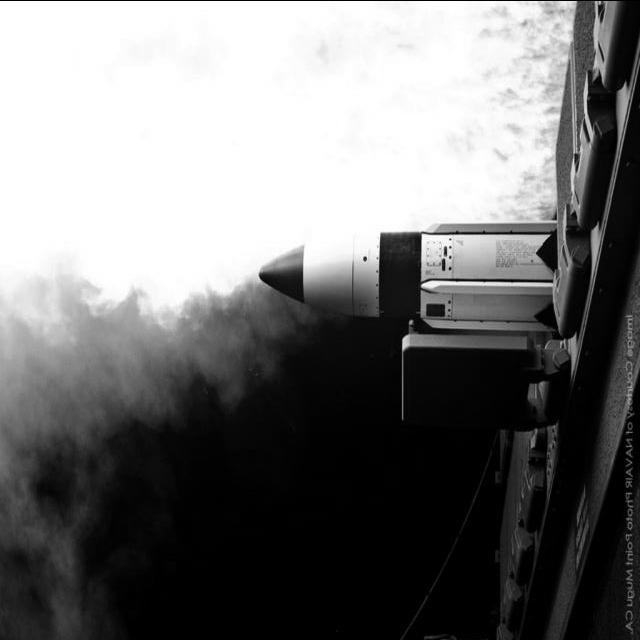missile: (257, 211, 575, 336), (405, 271, 565, 302)
